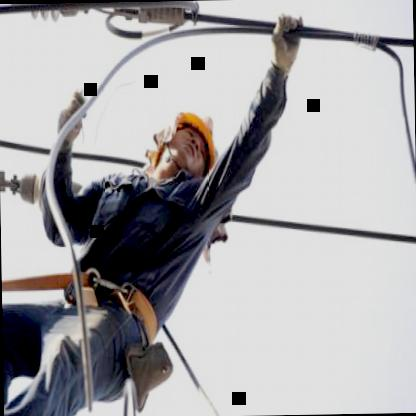helmet: (162, 101, 219, 184)
